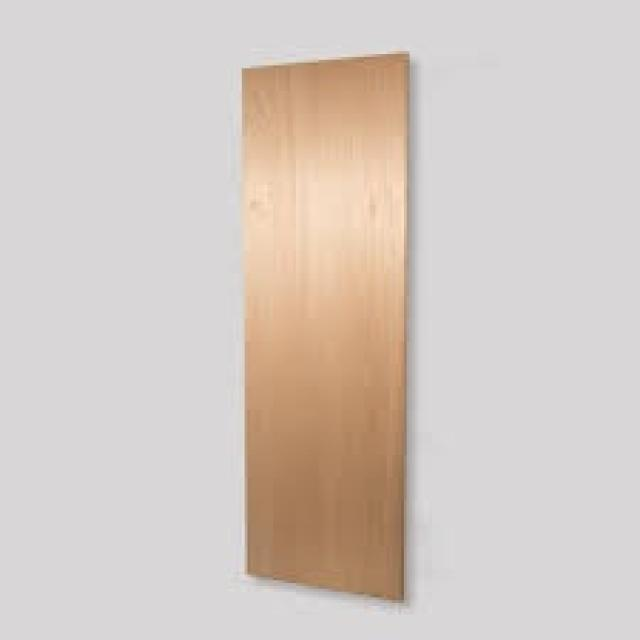door: (239, 51, 410, 603)
